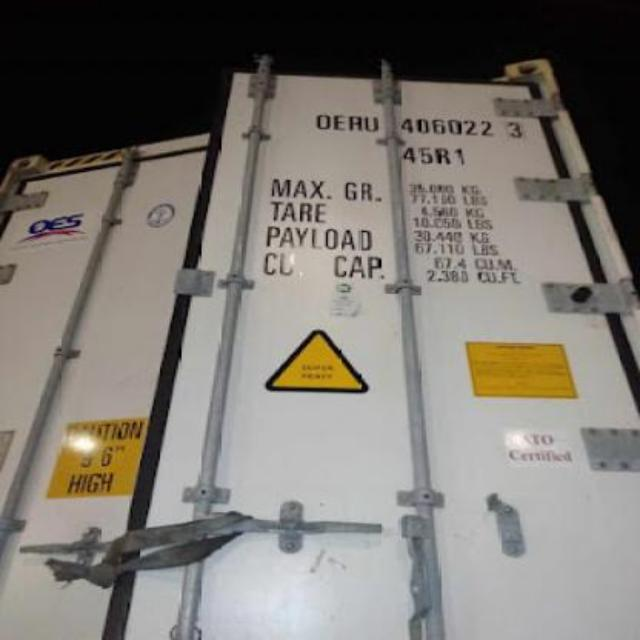0: (444, 115, 464, 139), (414, 115, 430, 136)
2: (478, 116, 494, 142), (464, 116, 478, 140)
3: (504, 121, 528, 141)
4: (401, 115, 414, 135)
6: (432, 114, 446, 136)
E: (330, 112, 348, 134)
O: (314, 111, 330, 132)
R: (351, 113, 364, 137)
U: (364, 112, 378, 138)
